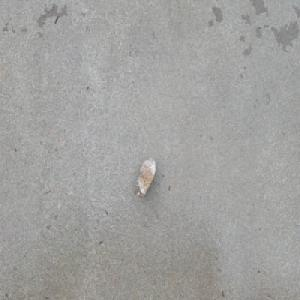Rock: (136, 154, 156, 198)
